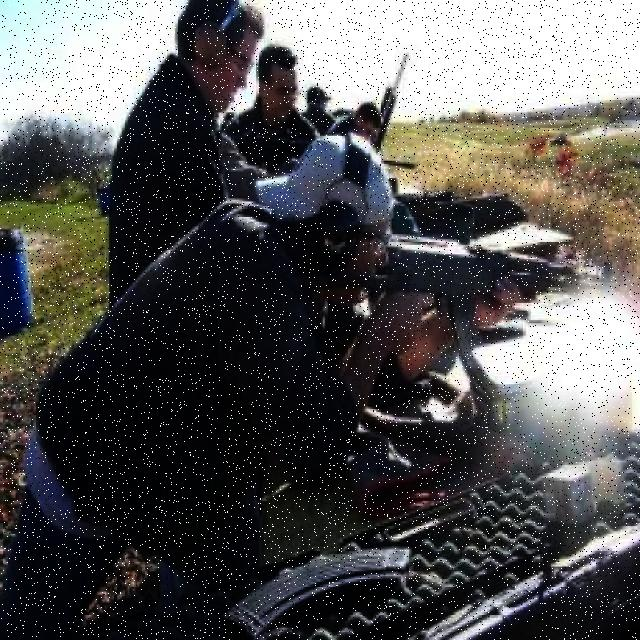Rifle: (293, 232, 576, 403)
